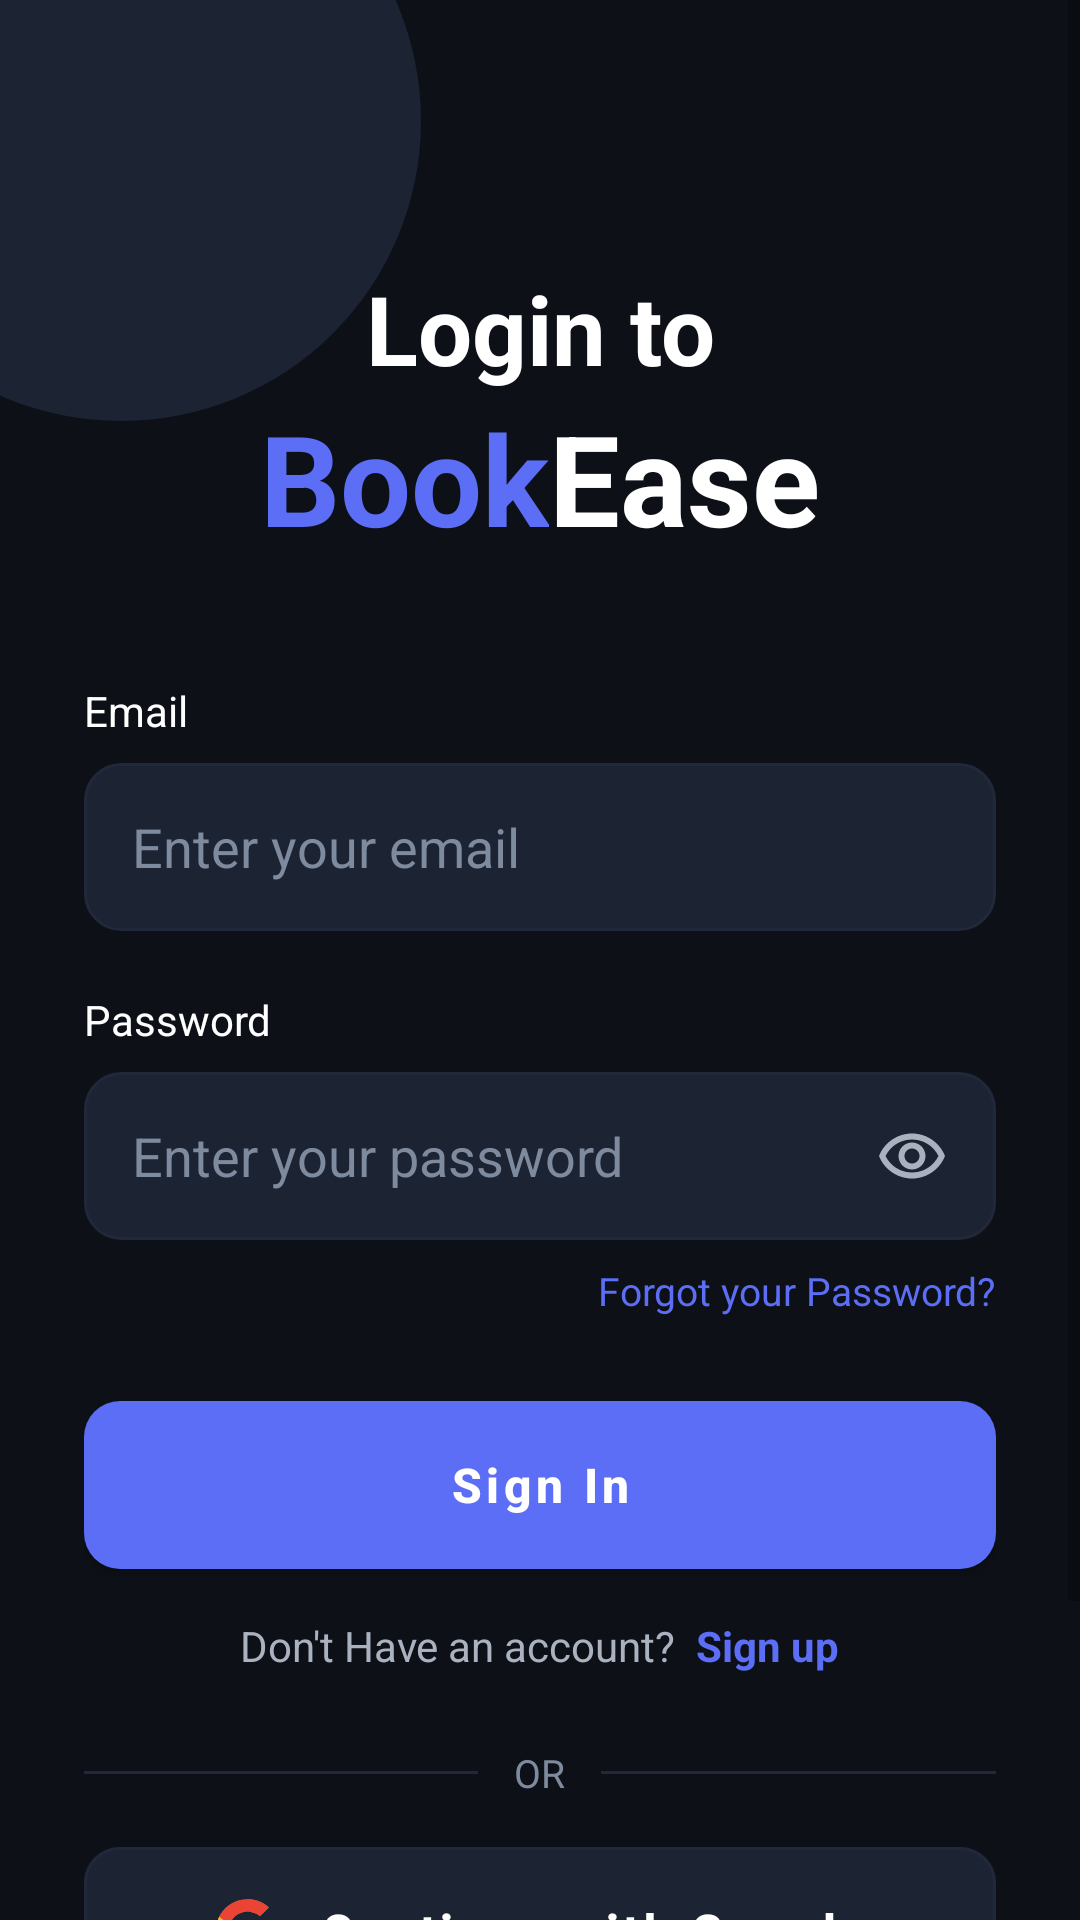

Icons on this 1080*1920 Android screen, each with the point to tap as (x=x, y=y):
eye: (x=912, y=1156)
